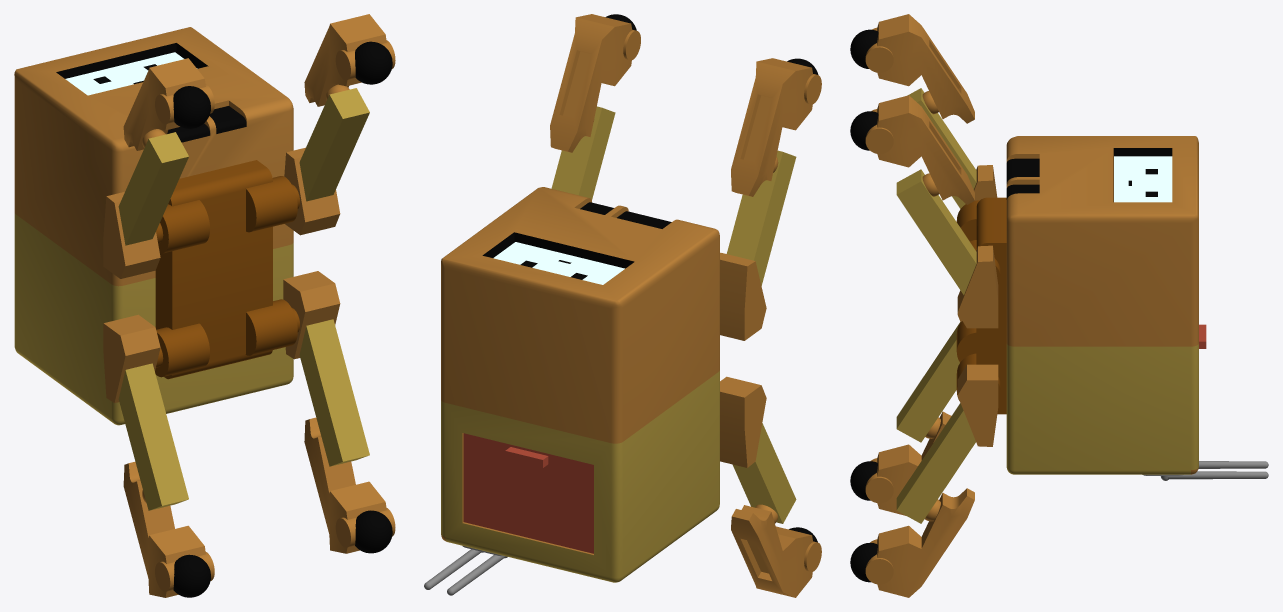
Rendered from Body.fbx.
3 views of the same model, side by side, from view 1: azimuth 30°, elevation 25°; view 2: azimuth 150°, elevation 25°; view 3: azimuth 270°, elevation 25° (orthographic). The views are drawn at different scales.
Parts seen in each view (by area): view 1: Body; view 2: Body; view 3: Body.
Boxes of the visible parts, <box> form: Body: <box>14,14,395,597</box>; Body: <box>424,14,821,597</box>; Body: <box>850,14,1268,597</box>.
Size of the model in its own units: 249 by 556 by 435.
